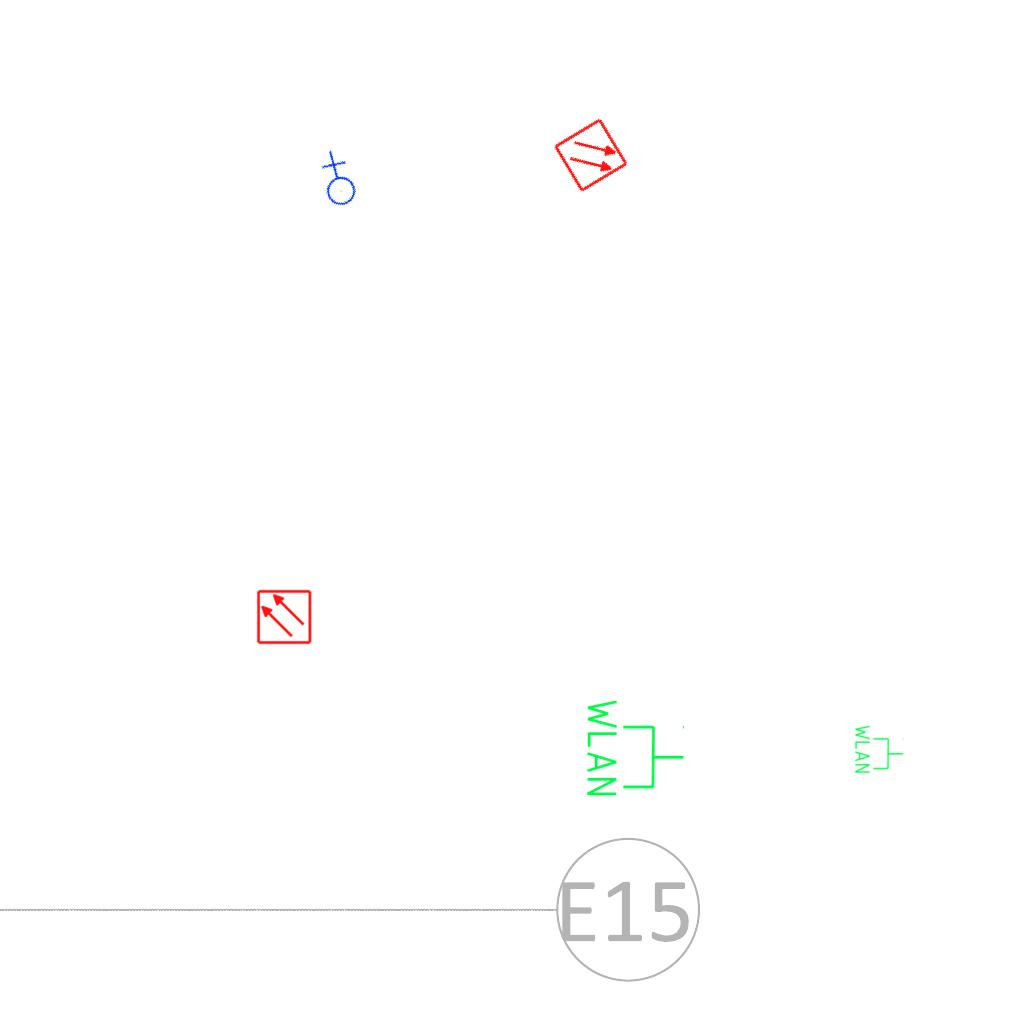Elektroanschluss_allgemein_230V_Geraeteanschlussdose_230V: (304, 148, 369, 215)
RMO_Rauchmelder_optischer: (552, 116, 630, 194), (256, 589, 312, 645)
WLAN: (583, 695, 687, 800), (853, 723, 905, 775)
